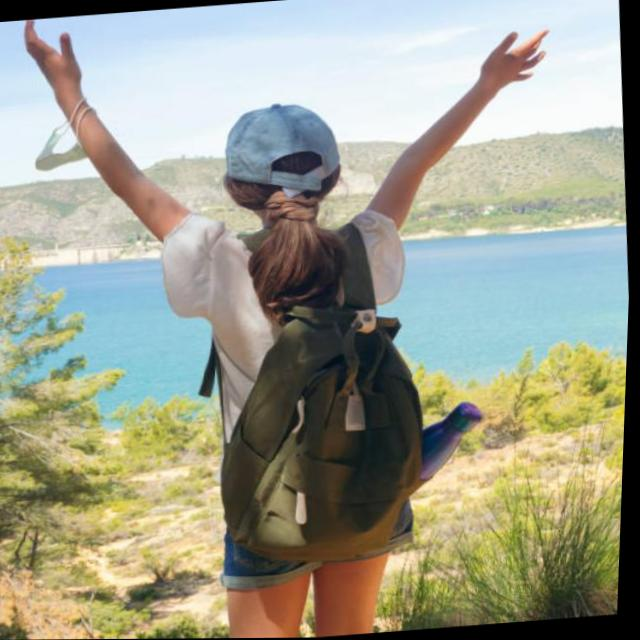no helmet: (191, 69, 361, 239)
